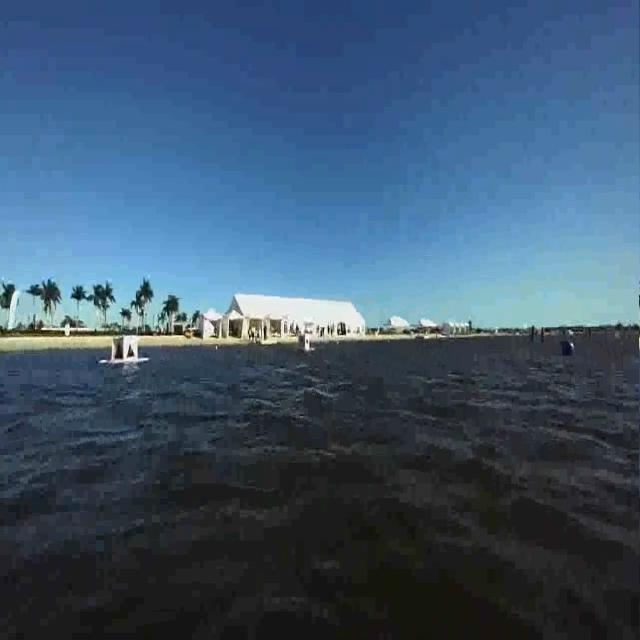blue-buoy: (561, 338, 579, 359)
